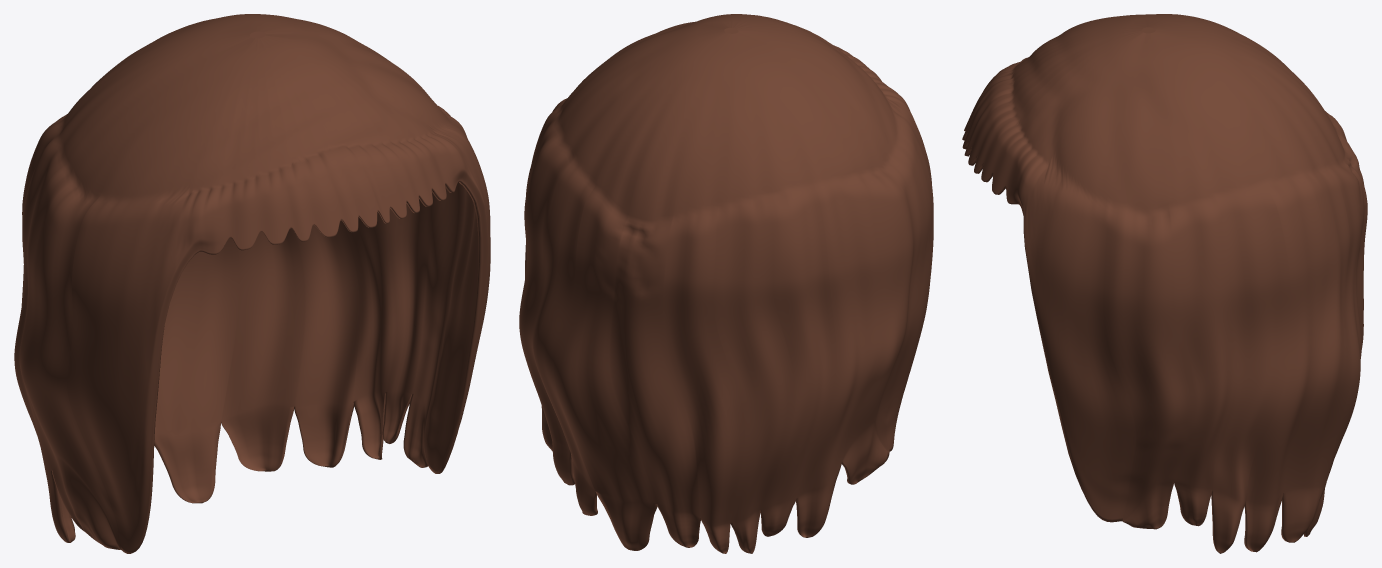
File: long-headband.glb
3 renders of one model, left to right at view 1: azimuth 30°, elevation 25°; view 2: azimuth 150°, elevation 25°; view 3: azimuth 270°, elevation 25°, orthographic. The views are drawn at different scales.
Parts seen in each view (by area): view 1: Hair / rounded long fringe; view 2: Hair / rounded long fringe; view 3: Hair / rounded long fringe.
Boxes of the visible parts, left/top/right/bottom form: Hair / rounded long fringe: left=14, top=14, right=490, bottom=553; Hair / rounded long fringe: left=519, top=14, right=933, bottom=553; Hair / rounded long fringe: left=962, top=14, right=1367, bottom=553.
Size of the model in its own units: 0.8534 by 1.04 by 0.7794.
